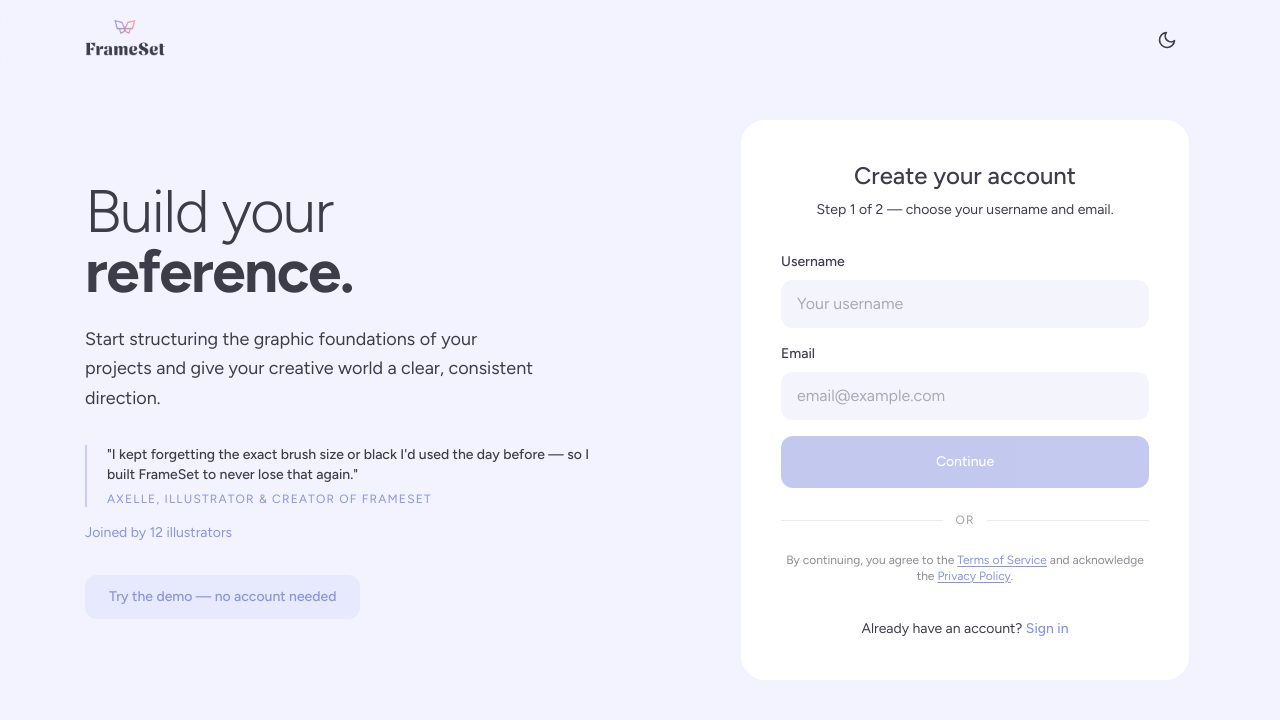
Test: Register — failure and Google branches › shows the API failure message at step 2 and stays there
Type "AxelleDev" into the field labelled "Username".
click(965, 304); type("AxelleDev")  # box x1=781 y1=280 x2=1149 y2=328
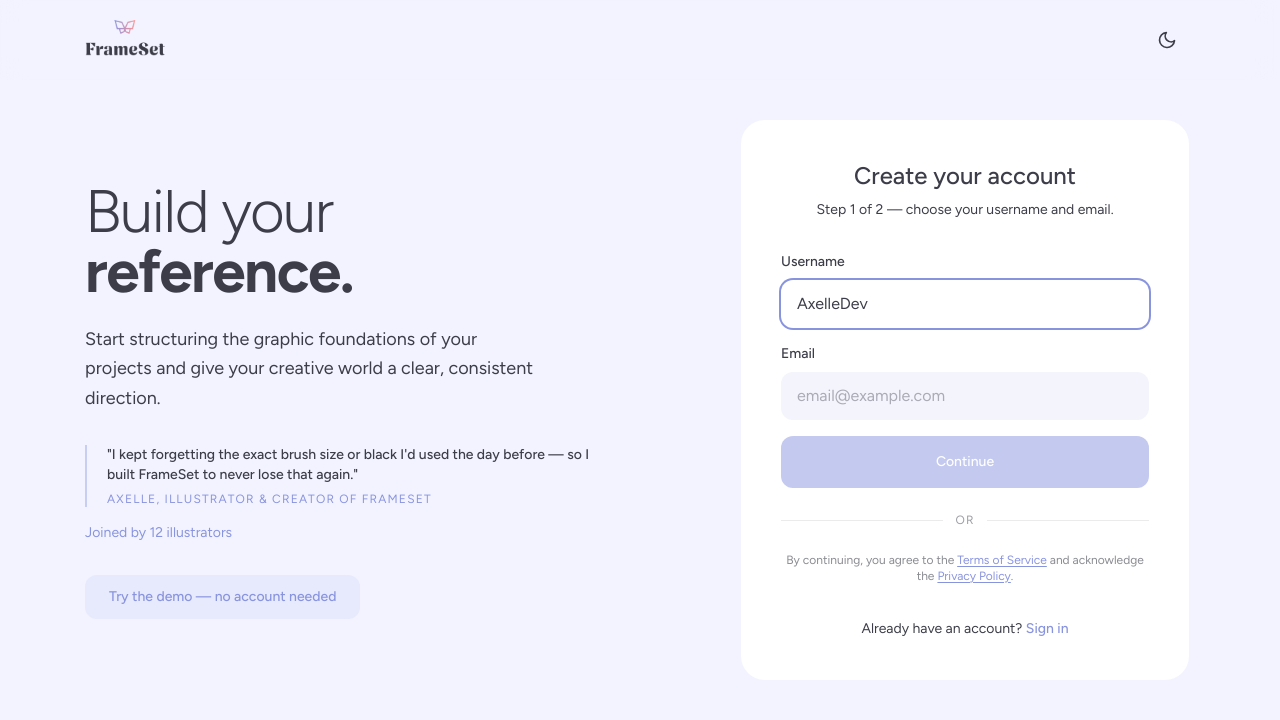
Type "axelle@example.com" into the field with placeholder "email@example.com".
click(965, 396); type("axelle@example.com")  # box x1=781 y1=372 x2=1149 y2=420
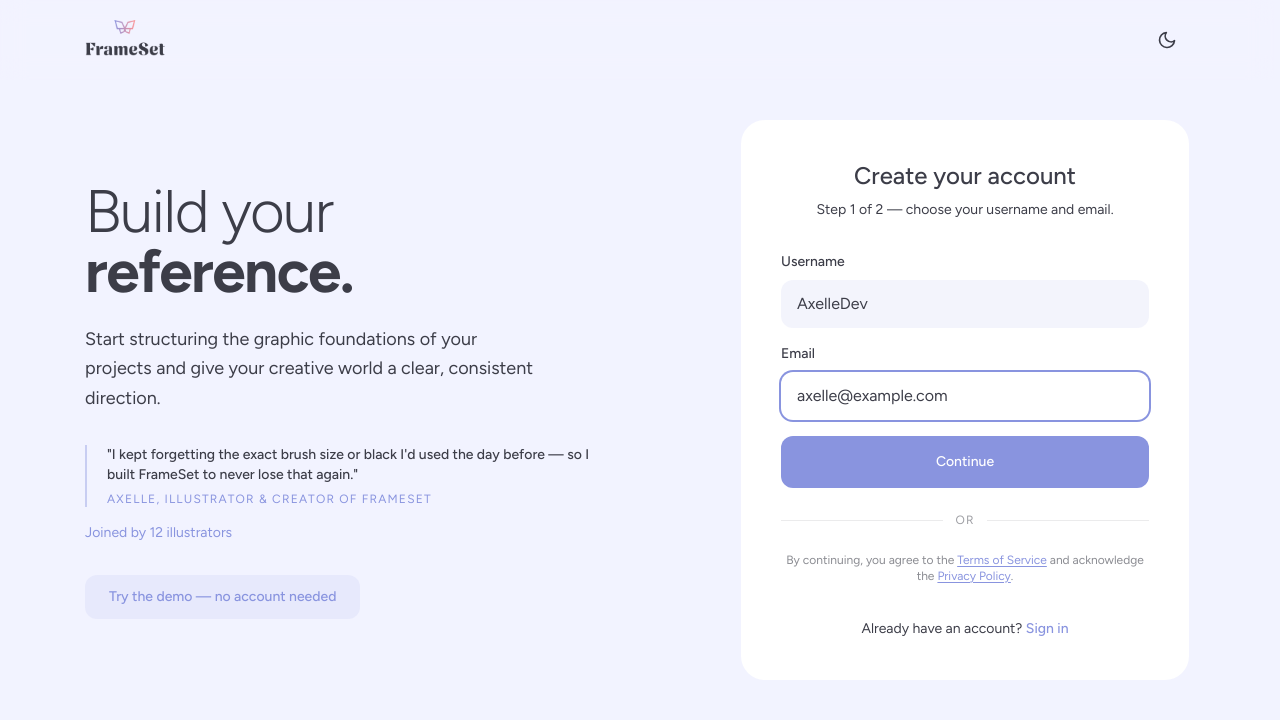
Click the button "Continue".
click(965, 462)  # box x1=781 y1=436 x2=1149 y2=488
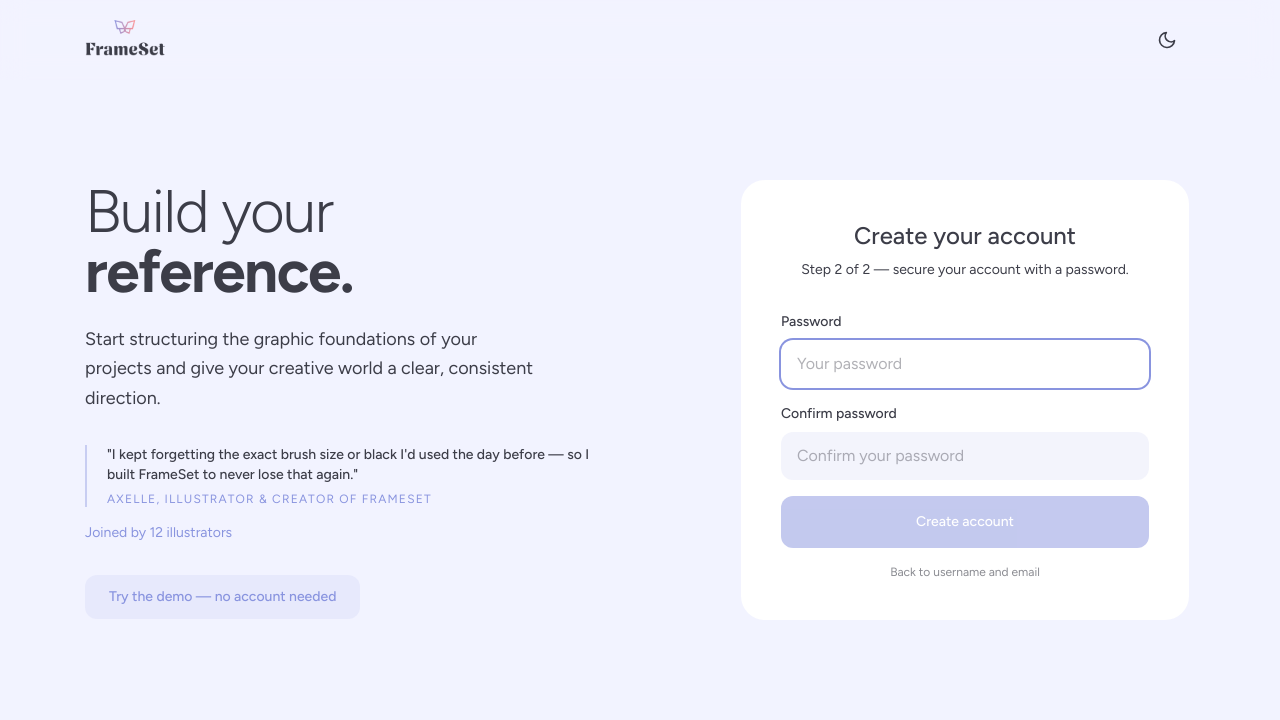
Type "Pass1234" into the password field with placeholder "Your password".
click(965, 364); type("Pass1234")  # box x1=781 y1=340 x2=1149 y2=388
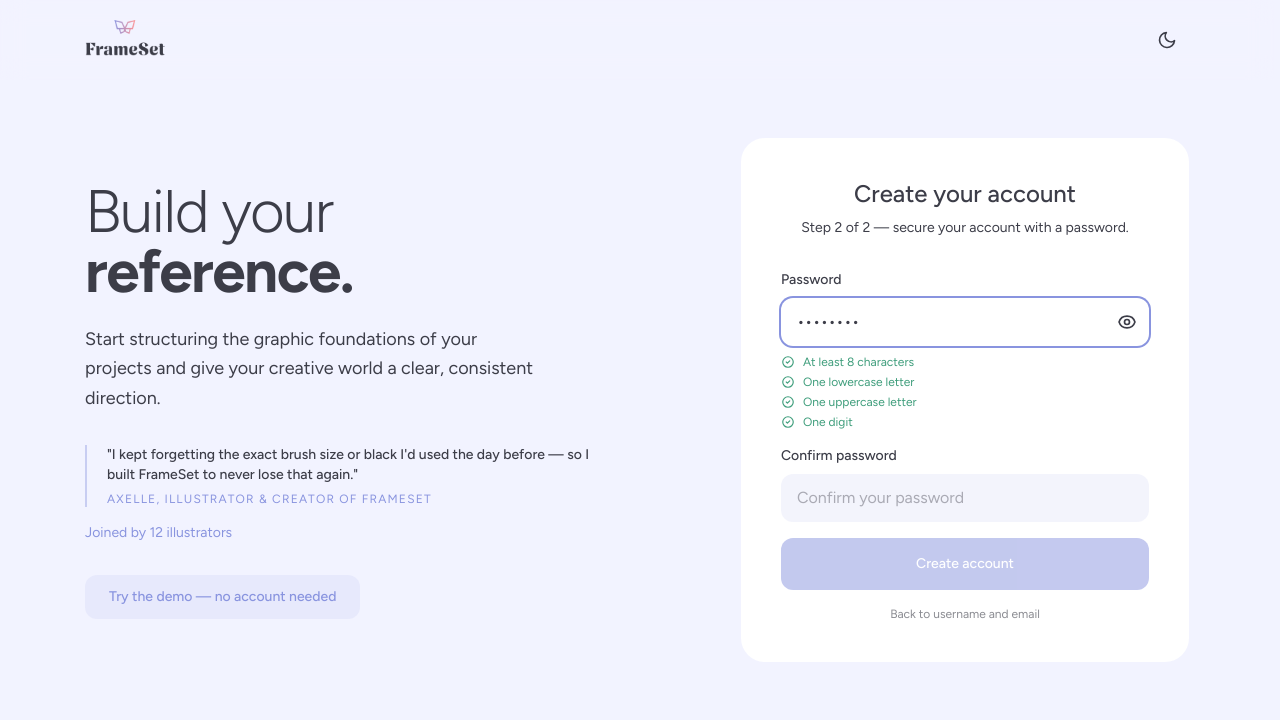
Type "Pass1234" into the password field with placeholder "Confirm your password".
click(965, 498); type("Pass1234")  # box x1=781 y1=474 x2=1149 y2=522
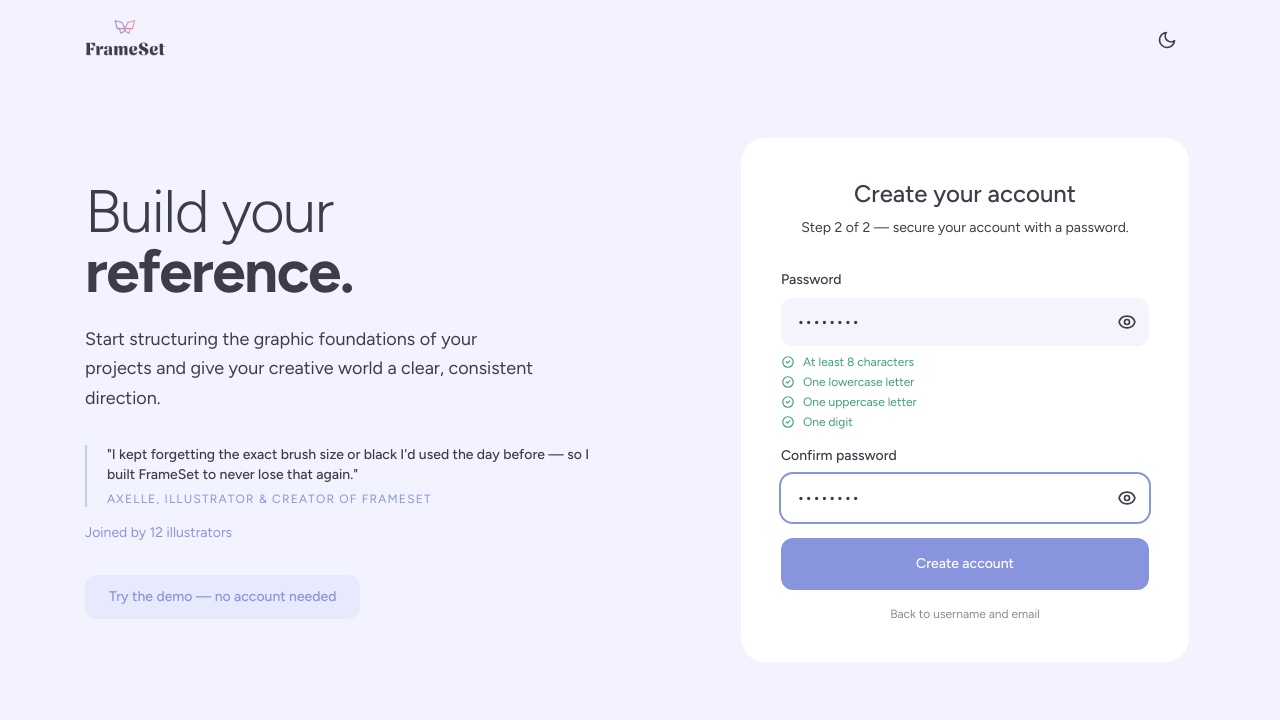
Click the button "Create account".
click(965, 564)  # box x1=781 y1=538 x2=1149 y2=590
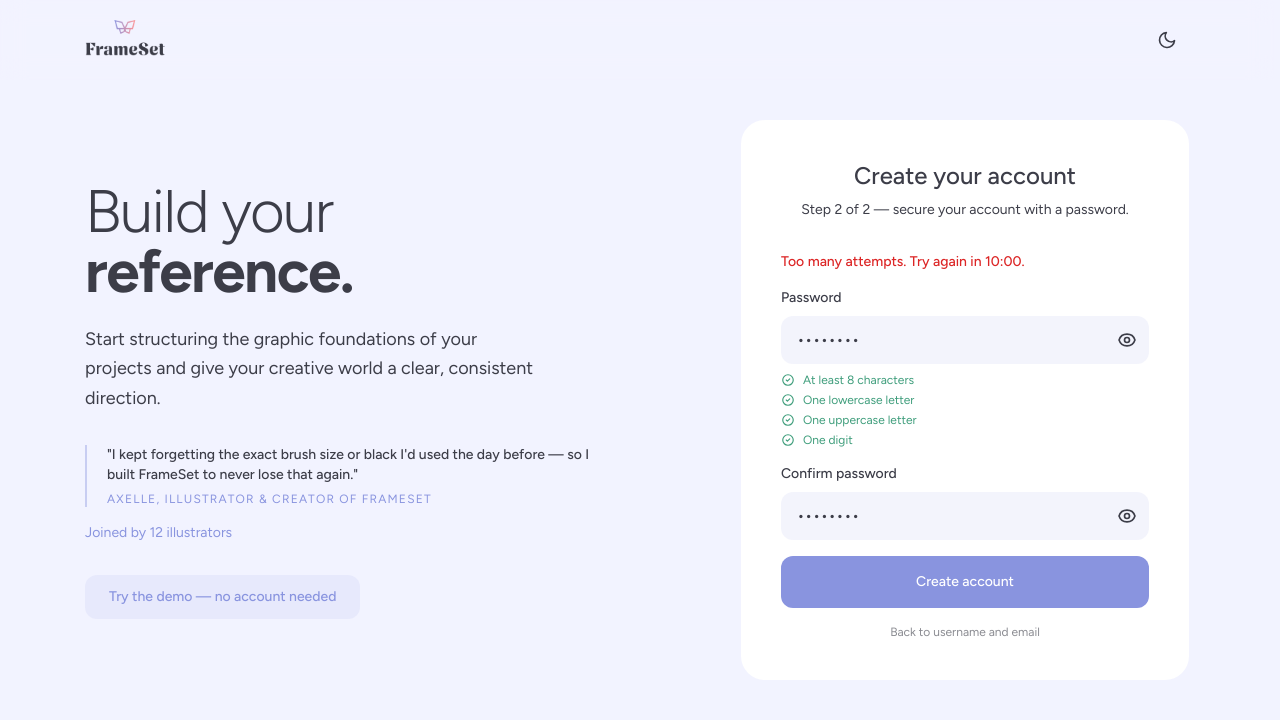
Expected: the text "Step 2 of 2 — secure your account with a password." is shown, x1=781 y1=200 x2=1149 y2=220
Expected: the text "Too many attempts. Try again in 10:00." is shown, x1=781 y1=253 x2=1024 y2=270
